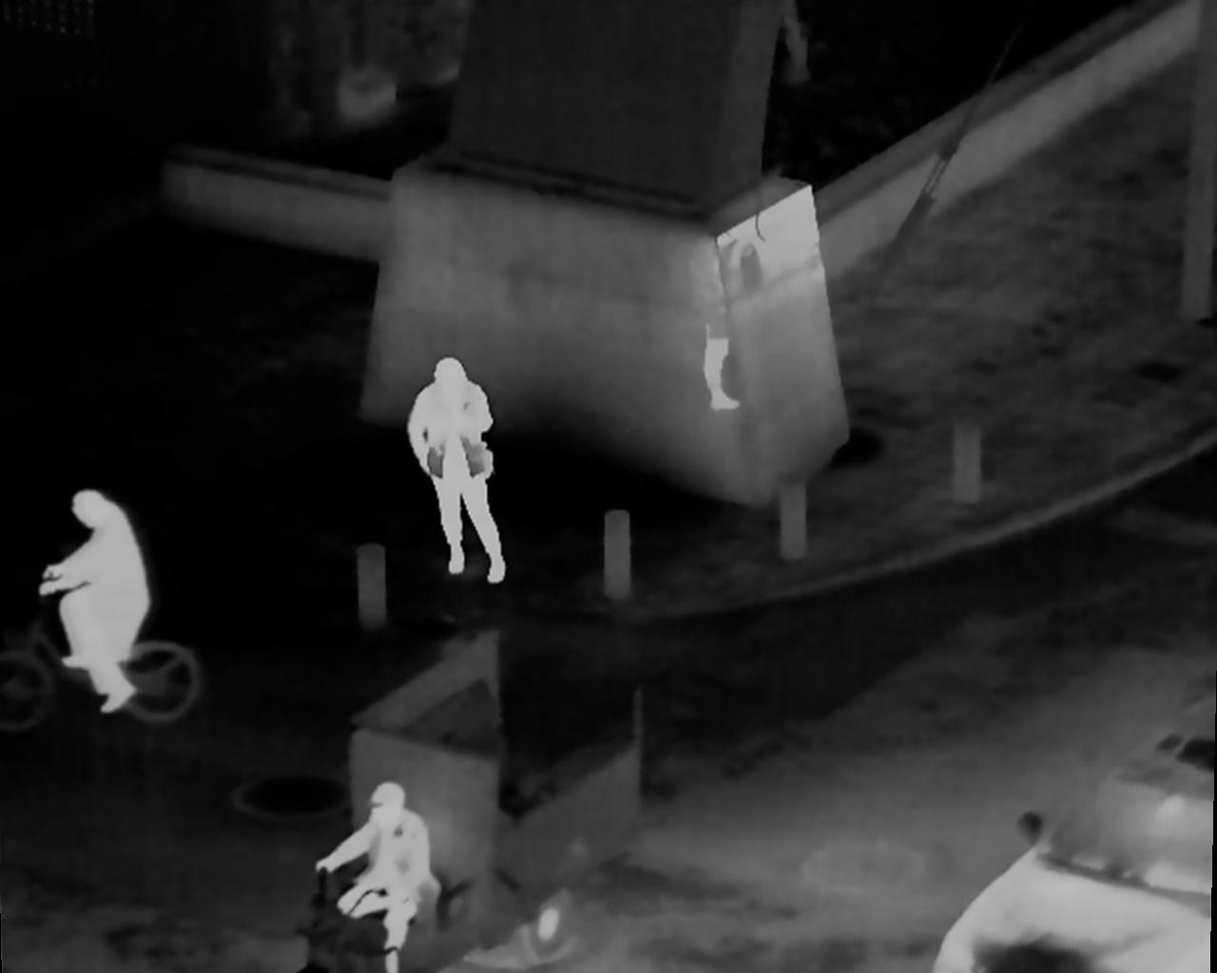person: (25, 486, 156, 712), (319, 779, 445, 971), (410, 352, 512, 582)
